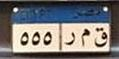5: (42, 30, 54, 47), (19, 30, 29, 48), (30, 31, 41, 46)
meem: (80, 28, 90, 48)
qaaf: (93, 27, 108, 49)
raa: (63, 30, 76, 48)
